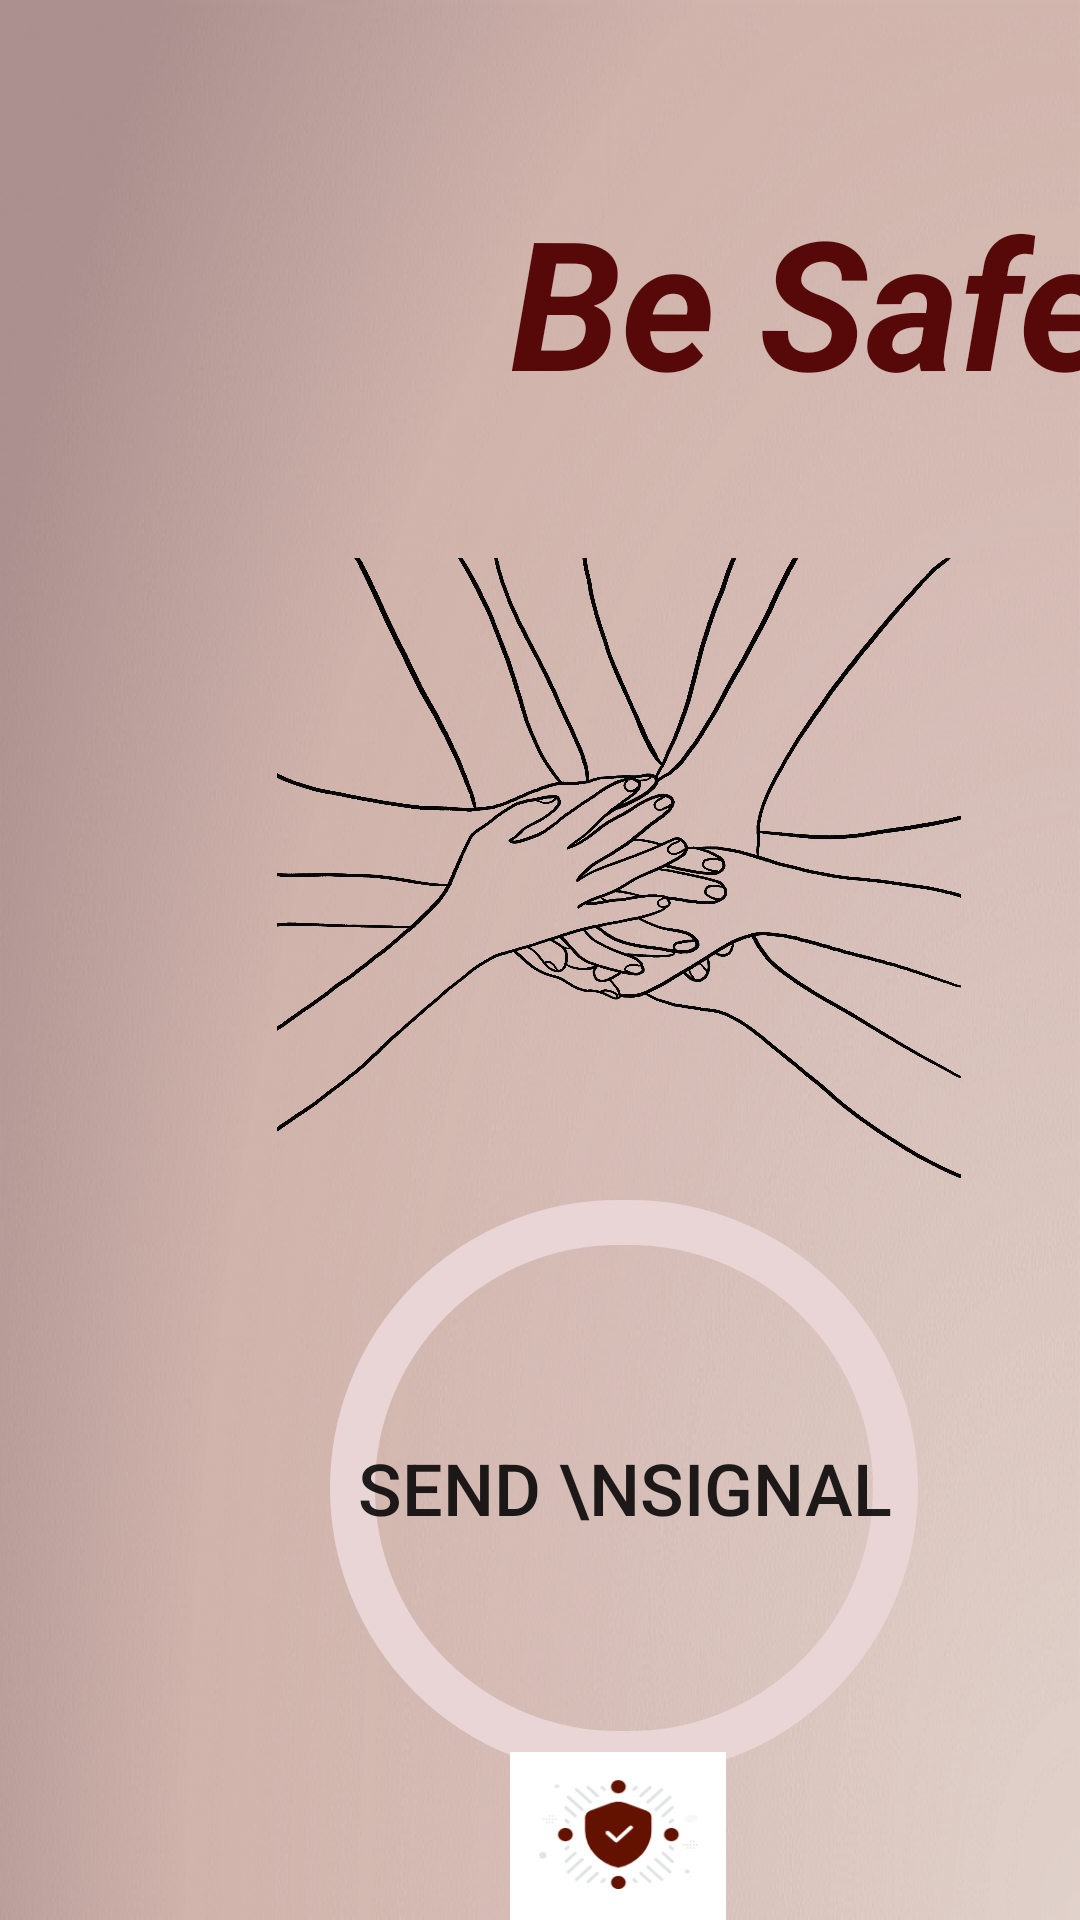

Icons on this 1080*1920 Android screen, each with the point to tap as (x,y):
protect: (618,1836)
